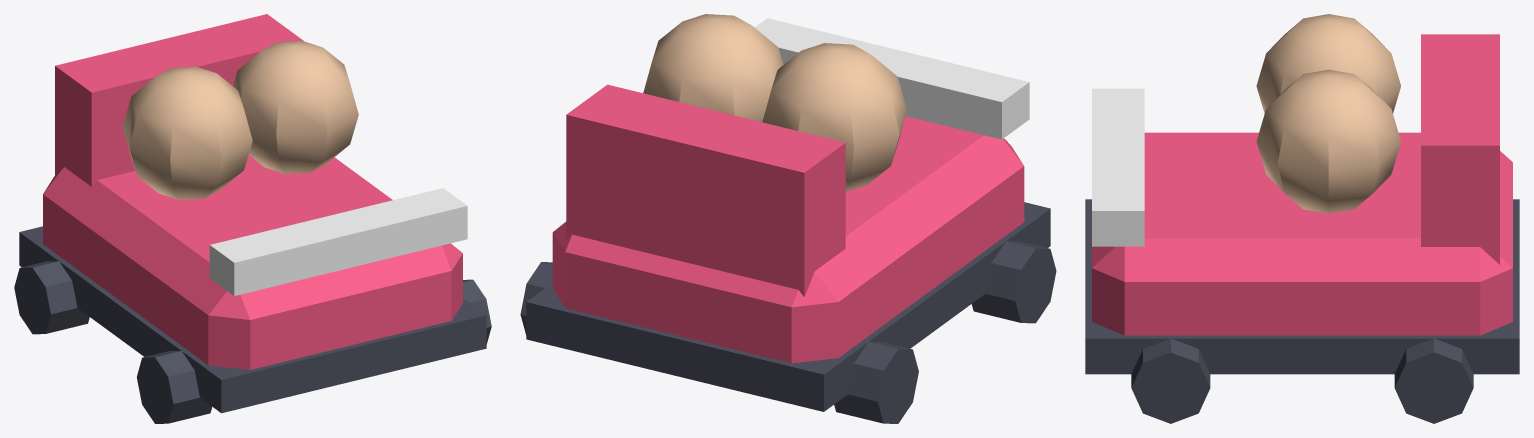
The model's file is roller-coaster.car-2.glb.
3 views of the same model, side by side, from view 1: azimuth 30°, elevation 25°; view 2: azimuth 150°, elevation 25°; view 3: azimuth 270°, elevation 25° (orthographic). The views are drawn at different scales.
Parts seen in each view (by area): view 1: model; view 2: model; view 3: model.
Boxes of the visible parts, x1,y1,x2,y2 form: model: [14, 14, 491, 423]; model: [520, 14, 1056, 423]; model: [1085, 14, 1519, 423].
Bounding box in the file's own units: 0.3 × 0.245 × 0.33.
1 material, 1 textured.
